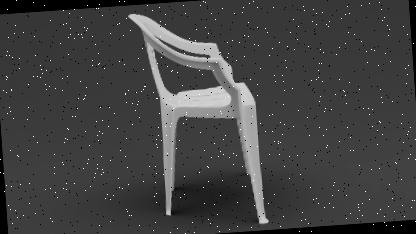chair: (126, 1, 275, 234)
